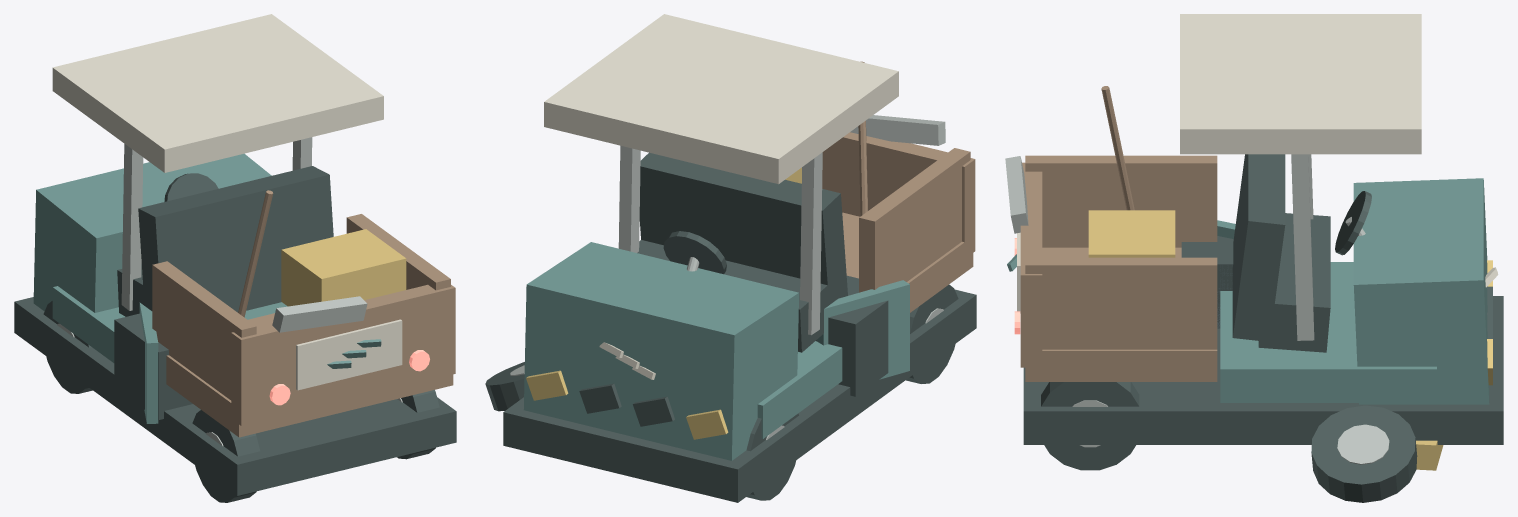
Rendered from maintenance-cart.glb.
The picture shows the model from 3 angles, left to right: view 1: azimuth 30°, elevation 25°; view 2: azimuth 150°, elevation 25°; view 3: azimuth 270°, elevation 25°; orthographic projection. The views are drawn at different scales.
Visible parts, largest first — view 1: cart-canopy, cart-chassis, cart-seat-back, cart-tailgate, cart-front-cowl, cart-tray-rail, cart-toolbox, cart-tray-bed, cart-council-sign, cart-empty-battery-bay, cart-cab-floor, cart-roof-post (+10 smaller); view 2: cart-front-cowl, cart-canopy, cart-chassis, cart-seat-back, cart-tray-rail, cart-tailgate, cart-empty-battery-bay, cart-cab-floor, cart-roof-post, cart-battery-bay-door, cart-tray-bed, cart-seat (+11 smaller); view 3: cart-canopy, cart-front-cowl, cart-chassis, cart-tray-rail.001, cart-cab-floor, cart-tray-rail, cart-seat-back, cart-tray-bed, cart-detached-wheel, cart-seat, cart-toolbox, cart-wheel-3 (+8 smaller).
Part boxes in pixels (<box>): cart-canopy: <box>52,14,383,172</box>; cart-chassis: <box>14,297,456,495</box>; cart-seat-back: <box>138,166,333,312</box>; cart-tailgate: <box>231,284,455,425</box>; cart-front-cowl: <box>33,153,271,312</box>; cart-tray-rail: <box>152,261,256,400</box>; cart-toolbox: <box>281,229,406,306</box>; cart-tray-bed: <box>166,313,453,437</box>; cart-council-sign: <box>296,319,402,390</box>; cart-empty-battery-bay: <box>114,313,192,419</box>; cart-cab-floor: <box>52,286,287,362</box>; cart-roof-post: <box>121,144,143,310</box>; cart-front-cowl: <box>523,242,798,460</box>; cart-canopy: <box>544,14,898,184</box>; cart-chassis: <box>503,289,976,502</box>; cart-seat-back: <box>639,152,847,304</box>; cart-tray-rail: <box>859,148,970,292</box>; cart-tailgate: <box>822,132,975,258</box>; cart-empty-battery-bay: <box>816,275,888,396</box>; cart-cab-floor: <box>757,341,842,438</box>; cart-roof-post: <box>800,152,822,335</box>; cart-battery-bay-door: <box>817,280,909,379</box>; cart-tray-bed: <box>842,212,973,312</box>; cart-seat: <box>637,240,834,352</box>; cart-canopy: <box>1180,14,1421,154</box>; cart-front-cowl: <box>1353,178,1489,404</box>; cart-chassis: <box>1023,296,1503,444</box>; cart-tray-rail.001: <box>1025,257,1217,349</box>; cart-cab-floor: <box>1220,262,1436,402</box>; cart-tray-rail: <box>1025,155,1217,247</box>; cart-seat-back: <box>1232,154,1285,341</box>; cart-tray-bed: <box>1025,247,1217,381</box>; cart-detached-wheel: <box>1311,405,1417,502</box>; cart-seat: <box>1258,213,1330,352</box>; cart-toolbox: <box>1088,210,1175,257</box>; cart-wheel-3: <box>1041,382,1139,470</box>.
Bounding box in the file's own units: 2.47 × 2.46 × 3.22.
